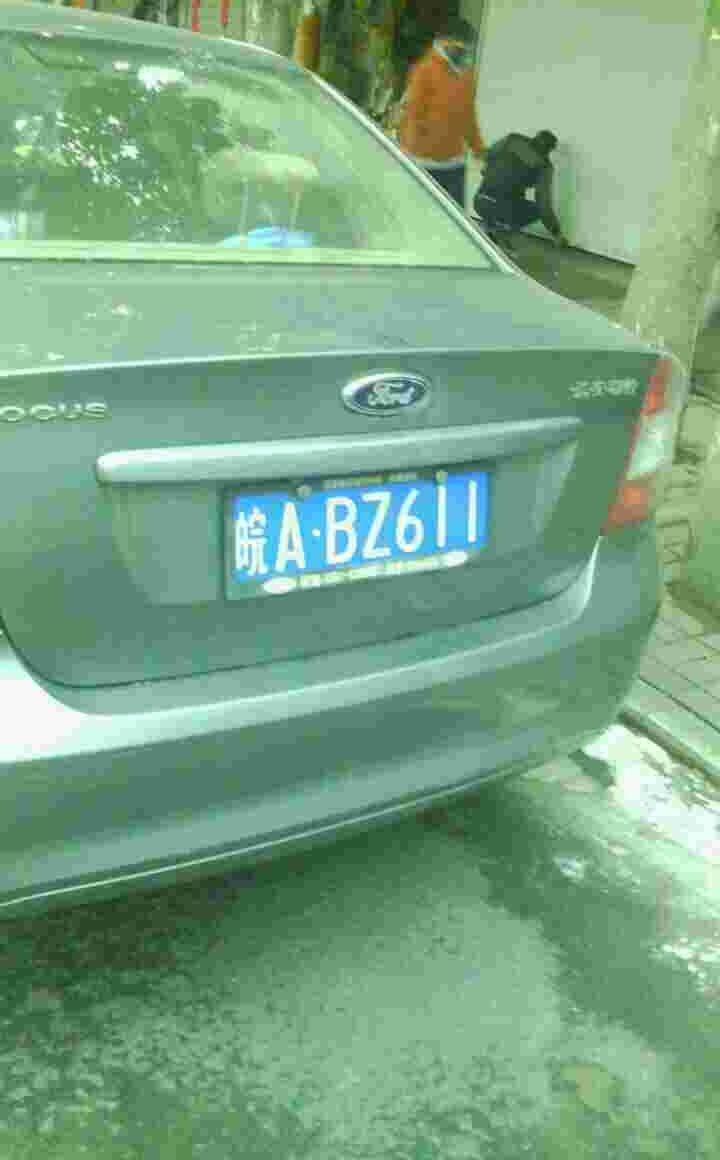license_plate: (229, 479, 498, 585)
